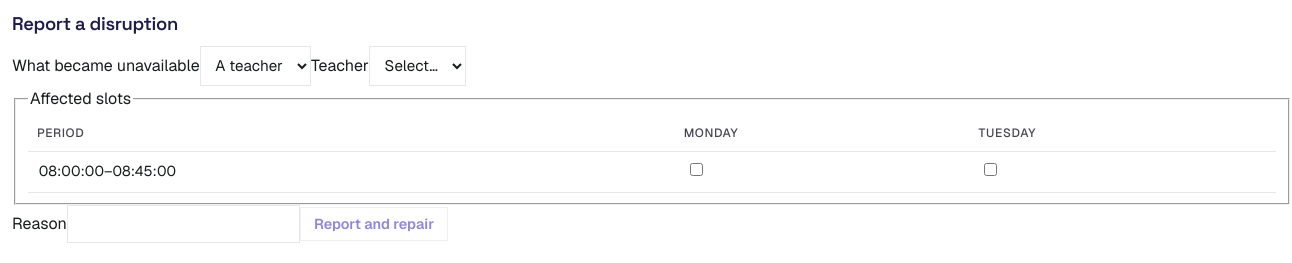
Scenario: ReportDisruptionPanel › disables submit until a target, a slot, and a reason are all set
This screenshot has width=1292, height=263.
Expected: the button "Report and repair" is disabled, [300,207,448,241]
Select "Dana" in the dropdown labelled "Teacher": (417, 66) [369,46,466,86]
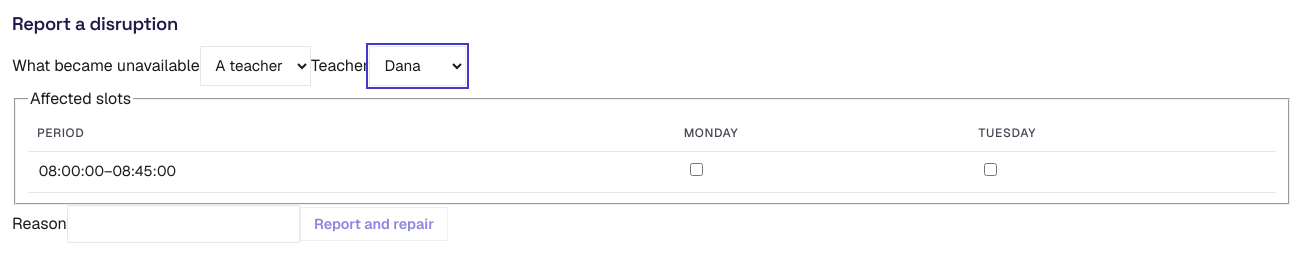
Expected: the button "Report and repair" is disabled, [300,207,448,241]
Click the checkbox named "MONDAY 08:00:00": (696, 170) [690,163,702,176]
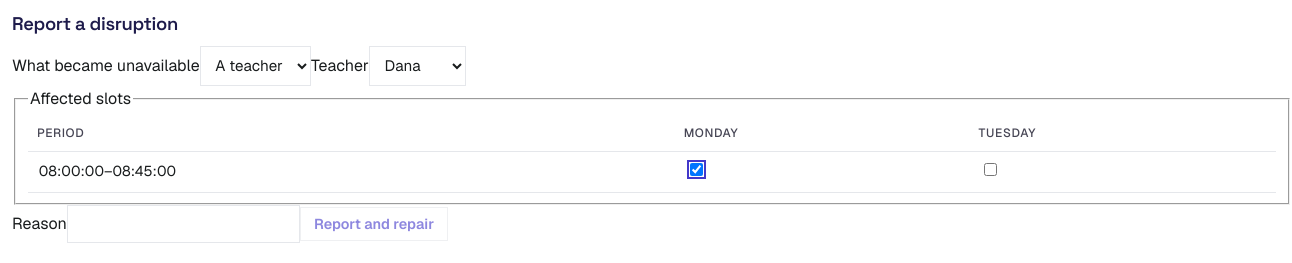
Expected: the button "Report and repair" is disabled, [300,207,448,241]
In the field labelled "Reason": (183, 224) [67,205,300,242], type "Sick leave"
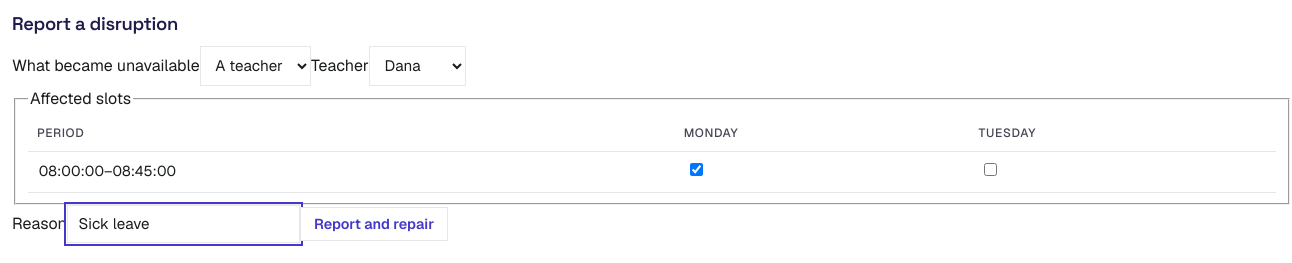
Expected: the button "Report and repair" is enabled, [300,207,448,241]
